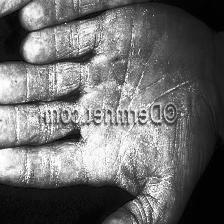Toxin: (4, 70, 75, 97), (120, 136, 159, 180), (23, 153, 70, 183), (87, 56, 127, 86)
